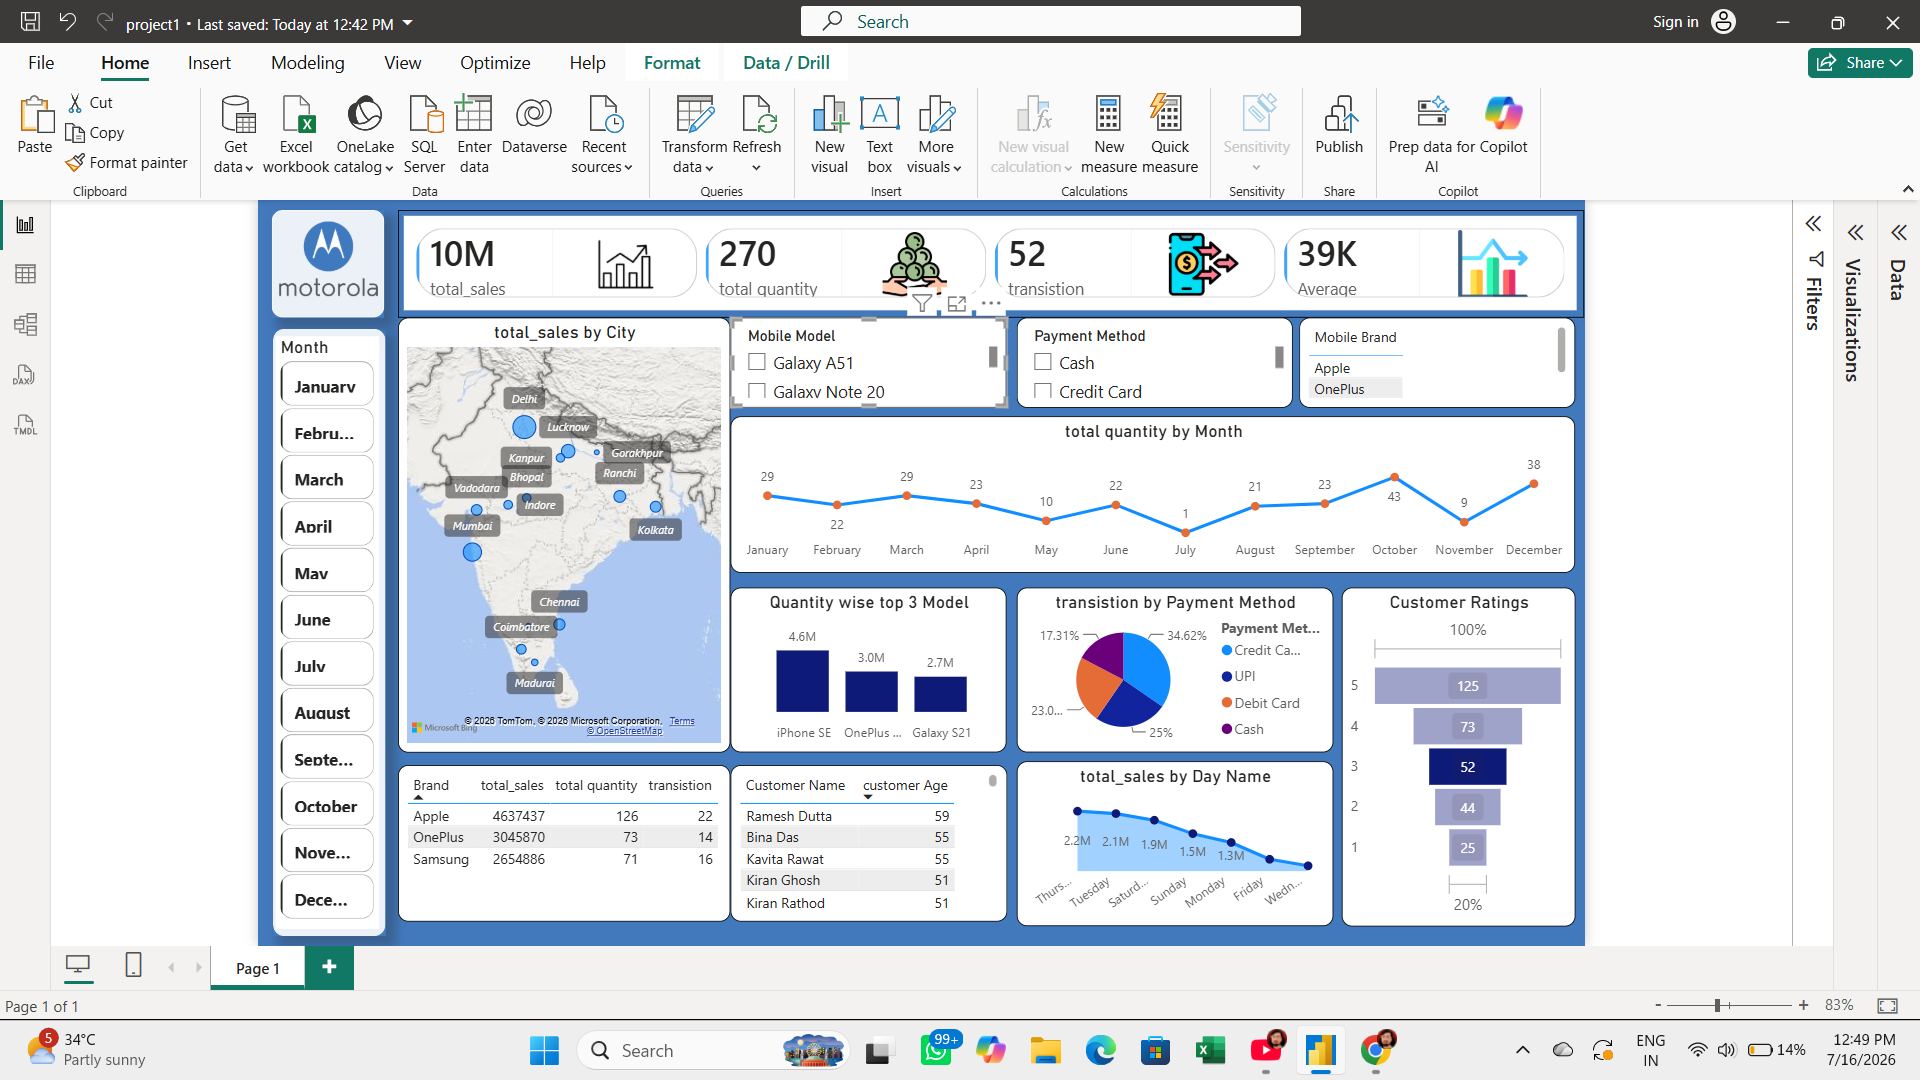

Layout of this report page (visuals, bound fields, positions):
{"tool":"powerbi","page":{"name":"Page 1","canvas":[1280,720],"ordinal":0},"visuals":[{"type":"shape","box":[13.3,9.7,108.6,103.8],"z":0},{"type":"image","box":[20.5,0,95.3,113.4],"z":1000},{"type":"shape","box":[14.5,124.3,108.6,586.3],"z":2000},{"type":"advancedSlicerVisual","fields":{"Values":["Sheet1.Date.Variation.Date Hierarchy.Month"]},"box":[16.9,131.5,100.1,571.9],"z":3000},{"type":"cardVisual","fields":{"Data":["Sheet1.total_sales","Sheet1.total quantity","Sheet1.transistion","Sheet1.Average"]},"box":[135.1,9.7,1144.9,103.8],"z":4000},{"type":"map","fields":{"Size":["Sheet1.total_sales"],"Category":["Sheet1.City"]},"box":[135.1,113.4,320.9,419.8],"z":5000},{"type":"lineChart","fields":{"Y":["Sheet1.total quantity"],"Category":["Sheet1.Date.Variation.Date Hierarchy.Month","Sheet1.Date.Variation.Date Hierarchy.Day"]},"box":[456,208.7,815.6,150.8],"z":6000},{"type":"clusteredColumnChart","title":"Quantity wise top 3   Model","fields":{"Category":["Sheet1.Mobile Model"],"Y":["Sheet1.total_sales"]},"box":[456,374,266.6,159.3],"z":7000},{"type":"pieChart","fields":{"Category":["Sheet1.Payment Method"],"Y":["Sheet1.transistion"]},"box":[732.3,374,305.2,159.3],"z":8000},{"type":"funnel","title":"Customer Ratings","fields":{"Category":["Sheet1.Customer Ratings"],"Y":["CountNonNull(Sheet1.Customer Ratings)"]},"box":[1046,374,225.6,326.9],"z":9000},{"type":"stackedAreaChart","fields":{"Category":["Sheet1.Day Name"],"Y":["Sheet1.total_sales"]},"box":[732.3,541.7,305.2,159.3],"z":10000},{"type":"tableEx","fields":{"Values":["Sheet1.Brand","Sheet1.total_sales","Sheet1.total quantity","Sheet1.transistion"]},"box":[135.1,545.3,320.9,150.8],"z":11000},{"type":"slicer","fields":{"Values":["Sheet1.Mobile Model"]},"box":[456,113.4,266.6,86.9],"z":12000},{"type":"slicer","fields":{"Values":["Sheet1.Payment Method"]},"box":[732.3,113.4,266.6,86.9],"z":13000},{"type":"tableEx","fields":{"Values":["Sheet1.Brand"]},"box":[1005,113.4,266.6,86.9],"z":14000},{"type":"tableEx","fields":{"Values":["Sheet1.Customer Name","Sum(Sheet1.Customer Age)"]},"box":[456,545,267,151],"z":15000}]}

Visuals, with their boxes on the page's 1280x720 design canvas (x1, y1, x2, y2). These are canvas units, not pixel positions in the 1920x1080 screenshot, which may show the page scaled, cropped or inside an application window:
shape: crop(13, 10, 122, 114)
image: crop(20, 0, 116, 113)
shape: crop(14, 124, 123, 711)
advancedSlicerVisual - Sheet1.Date.Variation.Date Hierarchy.Month: crop(17, 132, 117, 703)
cardVisual - Sheet1.total_sales x Sheet1.total quantity: crop(135, 10, 1280, 114)
map - Sheet1.total_sales x Sheet1.City: crop(135, 113, 456, 533)
lineChart - Sheet1.total quantity x Sheet1.Date.Variation.Date Hierarchy.Month: crop(456, 209, 1272, 360)
"Quantity wise top 3   Model" clusteredColumnChart: crop(456, 374, 723, 533)
pieChart - Sheet1.Payment Method x Sheet1.transistion: crop(732, 374, 1038, 533)
"Customer Ratings" funnel: crop(1046, 374, 1272, 701)
stackedAreaChart - Sheet1.Day Name x Sheet1.total_sales: crop(732, 542, 1038, 701)
tableEx - Sheet1.Brand x Sheet1.total_sales: crop(135, 545, 456, 696)
slicer - Sheet1.Mobile Model: crop(456, 113, 723, 200)
slicer - Sheet1.Payment Method: crop(732, 113, 999, 200)
tableEx - Sheet1.Brand: crop(1005, 113, 1272, 200)
tableEx - Sheet1.Customer Name x Sum(Sheet1.Customer Age): crop(456, 545, 723, 696)
